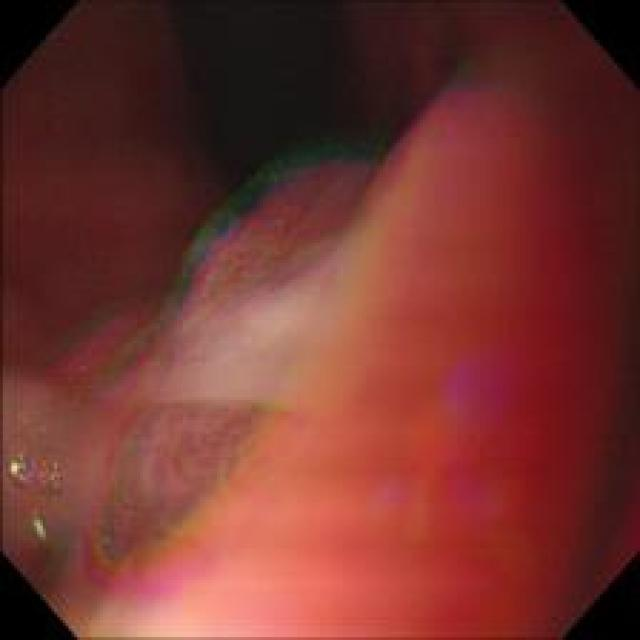blur: (5, 100, 574, 635)
color misalignment: (9, 6, 632, 630), (76, 105, 402, 612), (152, 138, 376, 341), (566, 42, 638, 612), (431, 338, 534, 521), (34, 296, 165, 394), (6, 439, 90, 574), (420, 2, 488, 139)
contrast: (138, 5, 456, 208)
